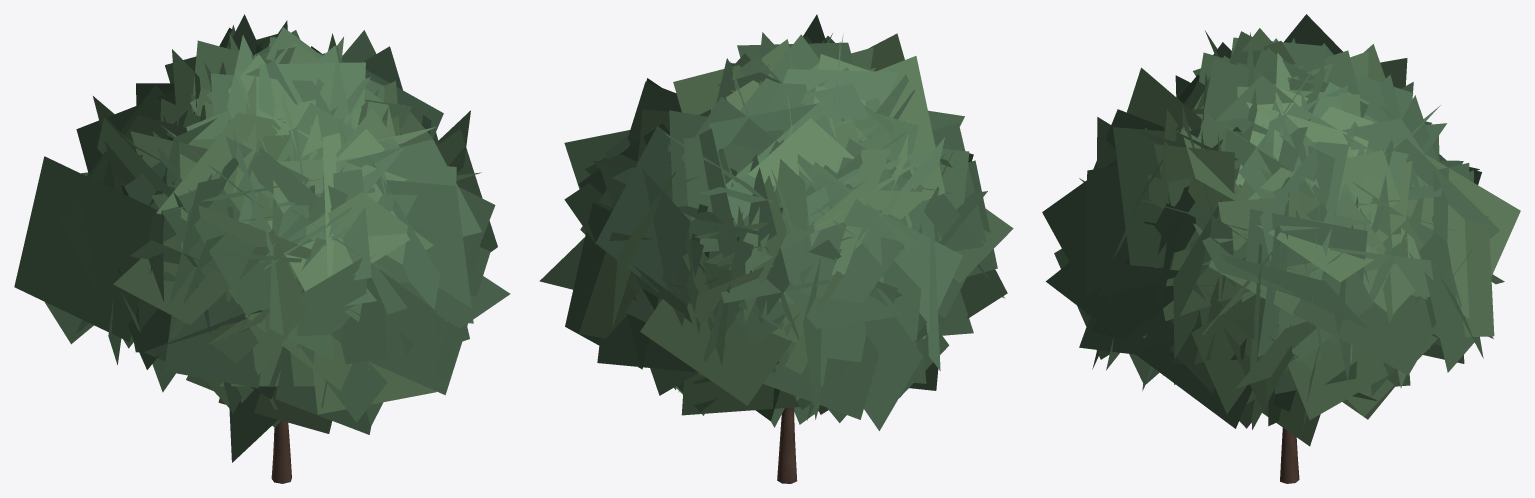
File: pine_0.glb
3 renders of one model, left to right at view 1: azimuth 30°, elevation 25°; view 2: azimuth 150°, elevation 25°; view 3: azimuth 270°, elevation 25°, orthographic. The views are drawn at different scales.
Parts seen in each view (by area): view 1: pine_0; view 2: pine_0; view 3: pine_0.
Part boxes in pixels (bbox=[...]): pine_0: bbox=[14, 14, 510, 483]; pine_0: bbox=[539, 14, 1013, 483]; pine_0: bbox=[1042, 14, 1520, 483].
Size of the model in its own units: 0.984 by 1 by 1.
